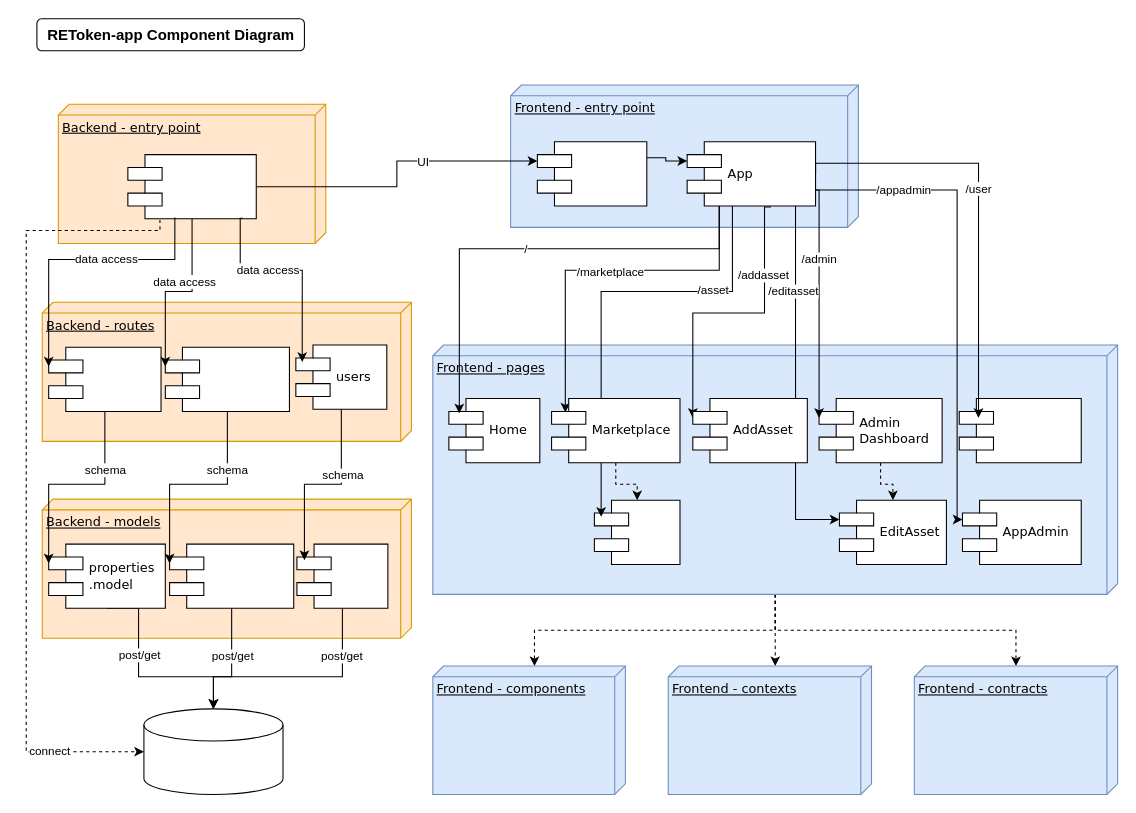
Image size: 1136x813. Some labels were removed from this diagram. Here are the shapes that lost their labels. From the top down, the centre of each, then its label:
At point (191, 186): "Server".
At point (591, 173): "Index".
At point (104, 378): "properties".
At point (226, 378): "transactions".
At point (1019, 430): "User Dashboard".
At point (636, 531): "Asset".
At point (231, 575): "transactions .model".
At point (342, 575): "users .model".
At point (213, 751): "MongoDB Cloud".
